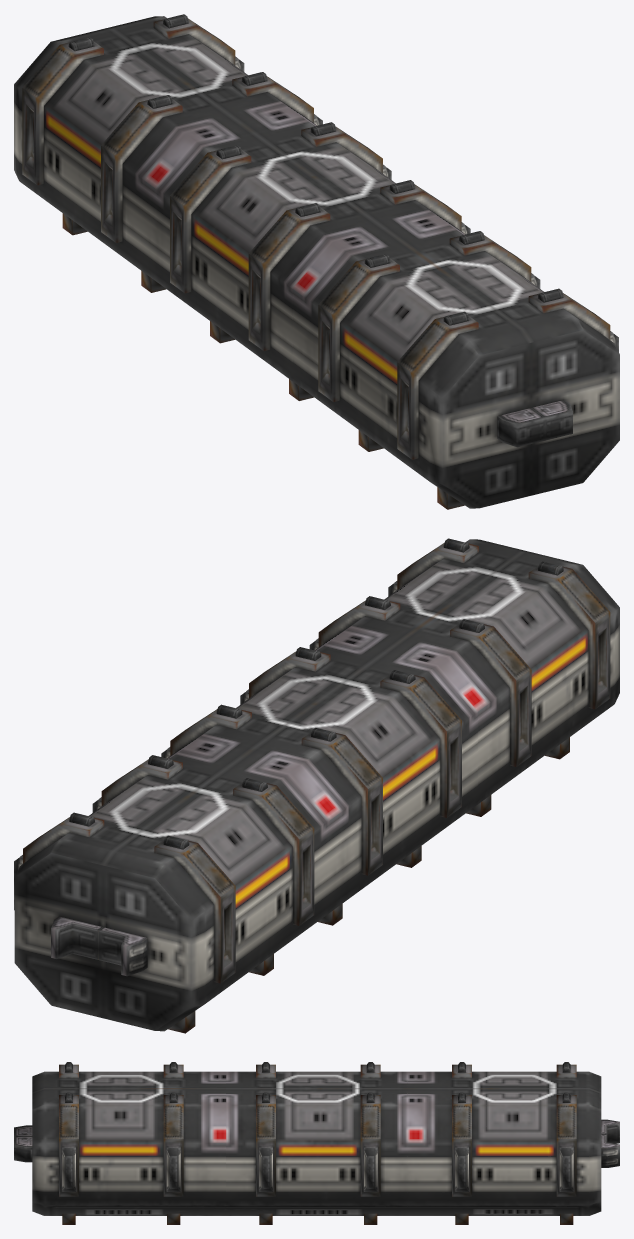
Rendered from container_large.glb.
3 views of the same model, one above another, from view 1: azimuth 30°, elevation 25°; view 2: azimuth 150°, elevation 25°; view 3: azimuth 270°, elevation 25° (orthographic). The views are drawn at different scales.
Parts seen in each view (by area): view 1: scenery; view 2: scenery; view 3: scenery.
Boxes of the visible parts, x1,y1,x2,y2 form: scenery: [14, 14, 619, 509]; scenery: [14, 538, 619, 1033]; scenery: [14, 1062, 619, 1224].
Bounding box in the file's own units: 0.2677 × 0.2267 × 1.
Materials: 1 (1 with a texture image).
